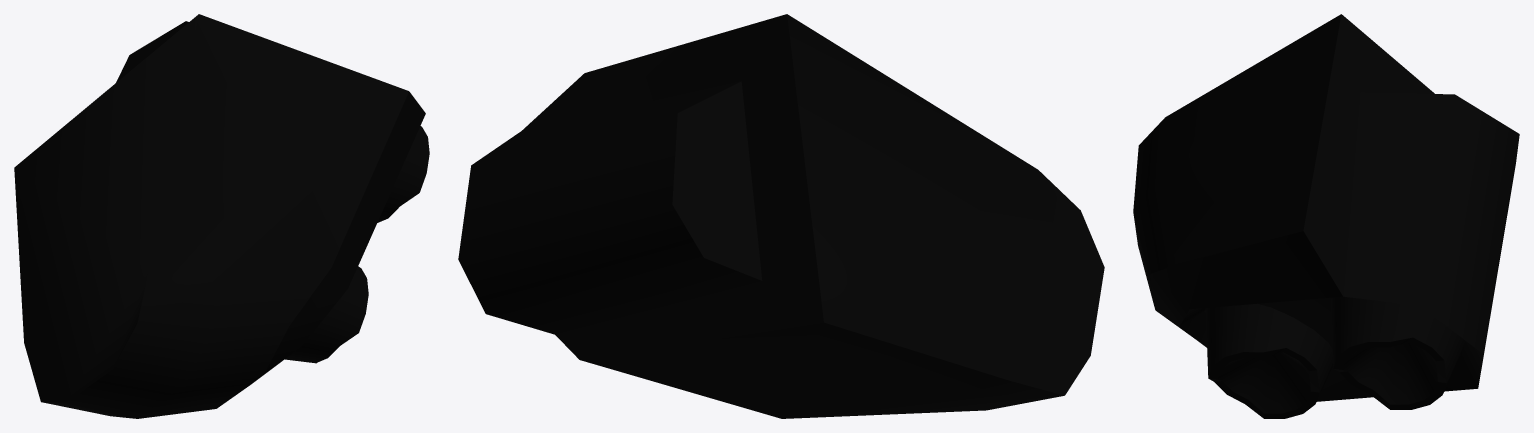
File: ama_collectable_scrap_04.glb
The picture shows the model from 3 angles, left to right: view 1: azimuth 30°, elevation 25°; view 2: azimuth 150°, elevation 25°; view 3: azimuth 270°, elevation 25°; orthographic projection. The views are drawn at different scales.
Visible parts, largest first — view 1: shipScrapPart_04; view 2: shipScrapPart_04; view 3: shipScrapPart_04.
Part boxes in pixels (<box>): shipScrapPart_04: <box>14,14,429,418</box>; shipScrapPart_04: <box>458,14,1104,418</box>; shipScrapPart_04: <box>1133,14,1519,418</box>.
Size of the model in its own units: 1.16 by 0.8853 by 0.8236.
1 material, 1 textured.
